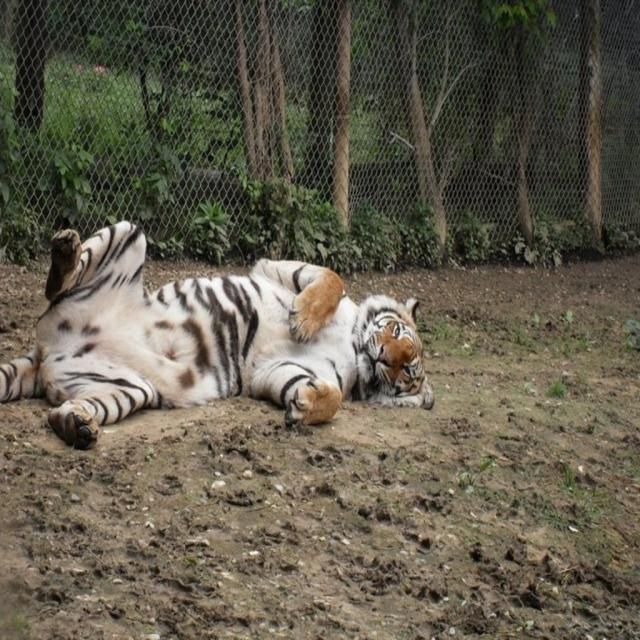Tiger: (2, 218, 436, 449)
